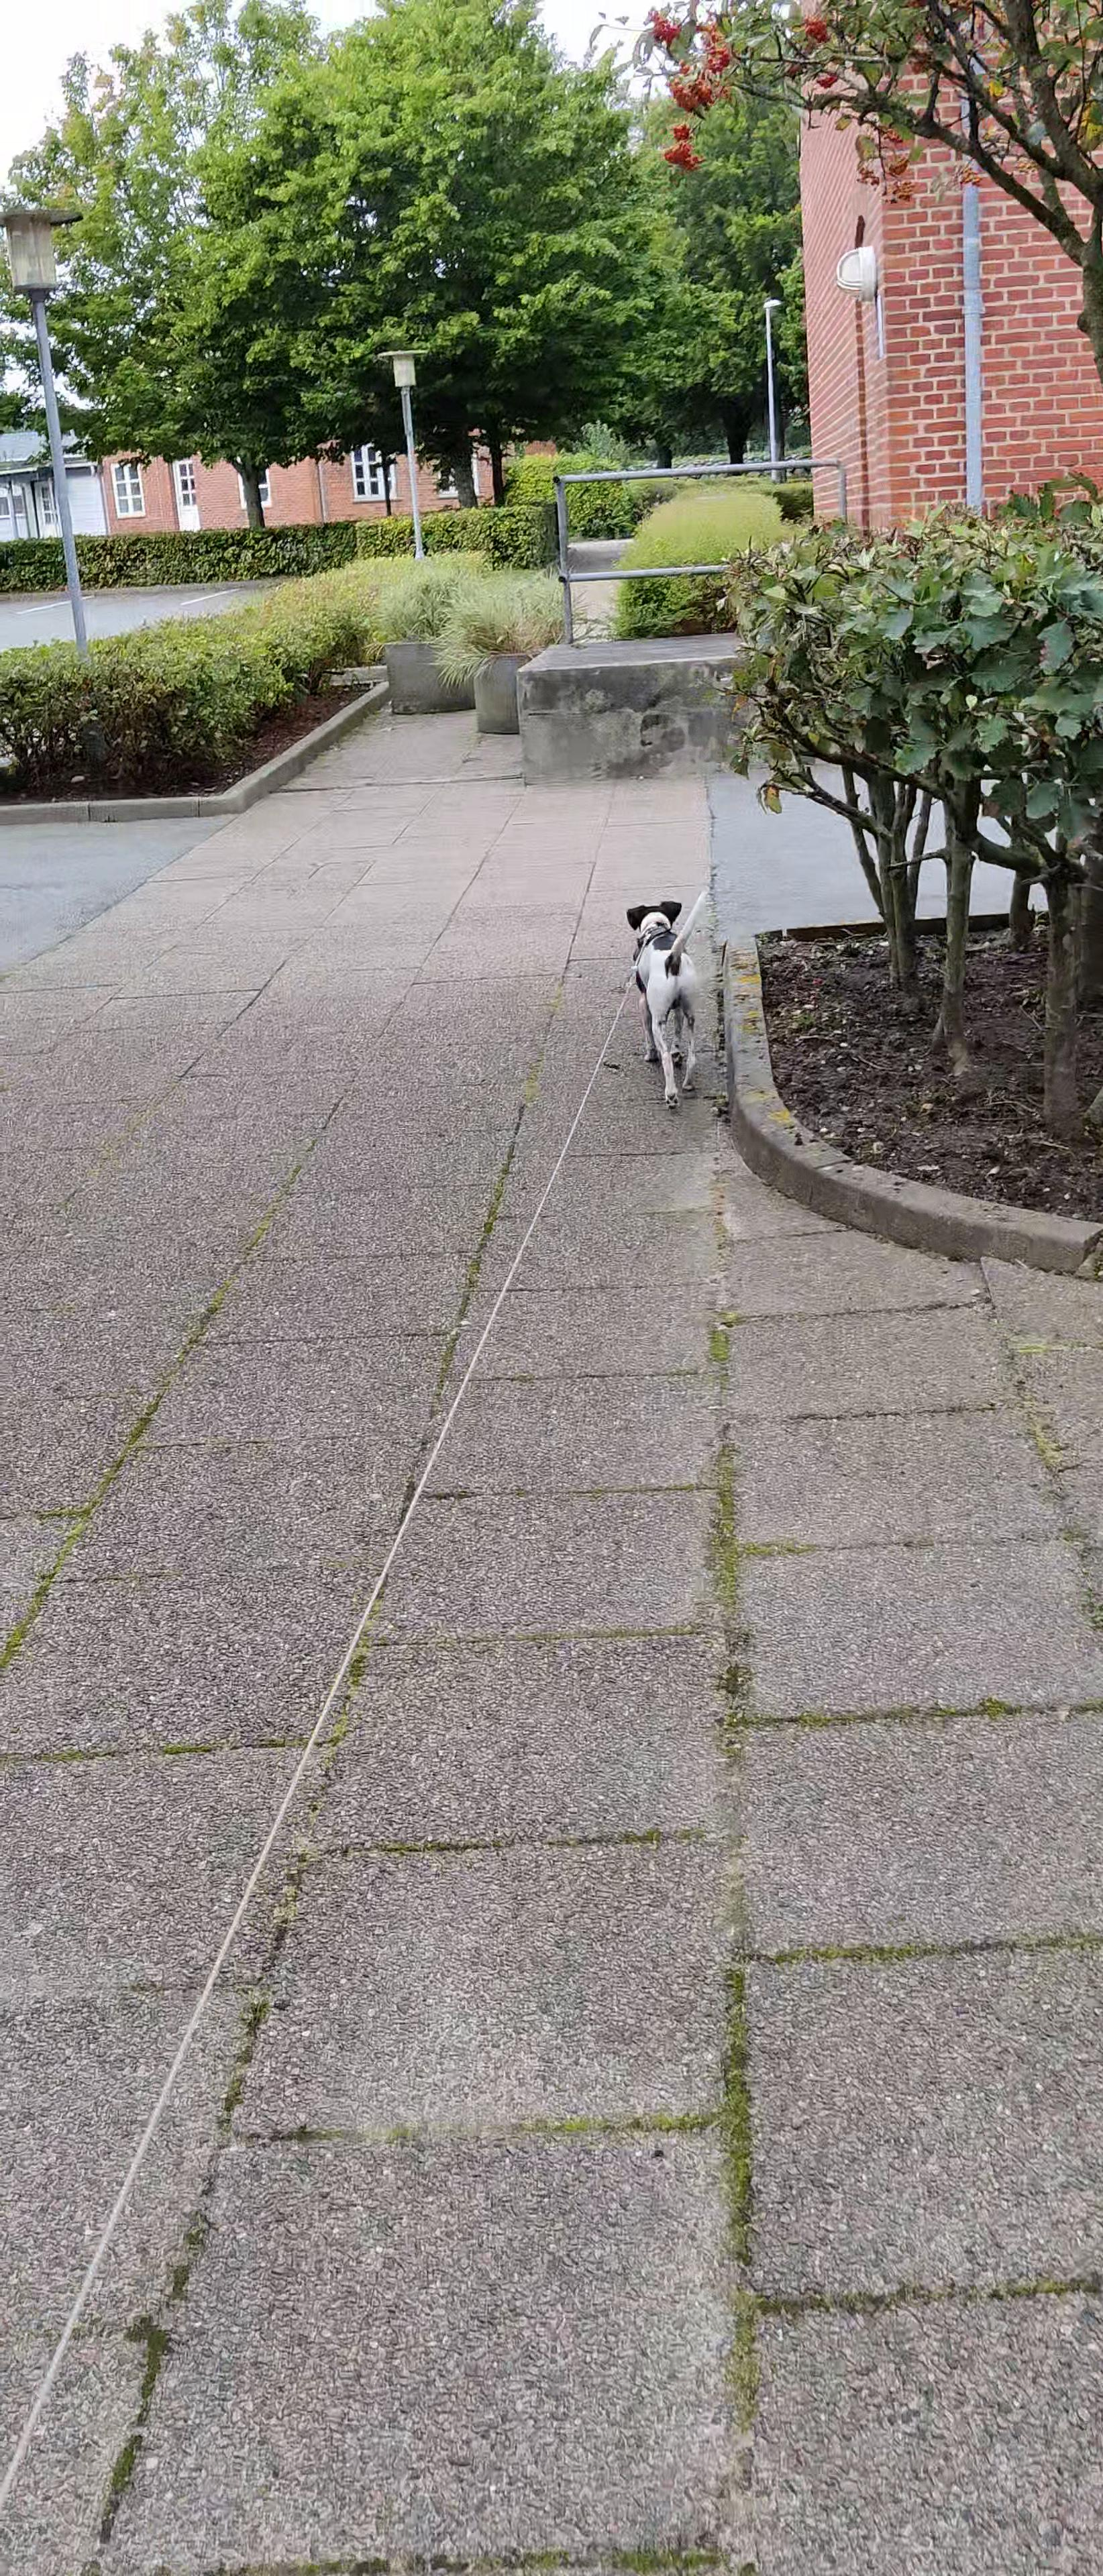Dog: (621, 882, 713, 1117)
